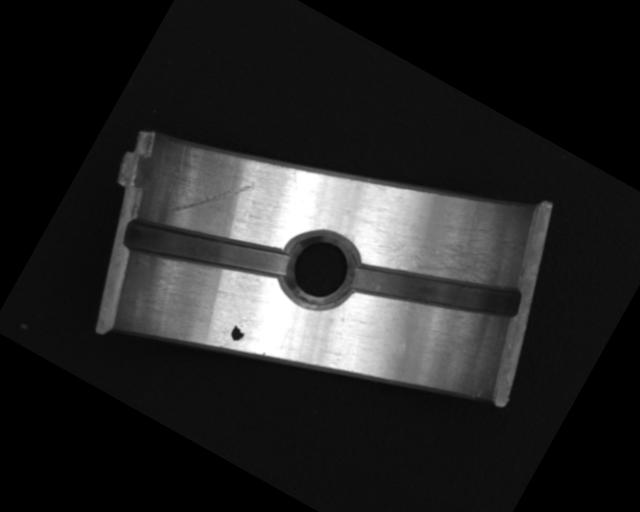blot: (227, 319, 249, 344)
gap: (345, 215, 525, 365), (117, 176, 294, 320)
hole: (267, 217, 370, 323)
nick: (169, 152, 256, 241)
scratch: (370, 183, 527, 320)
